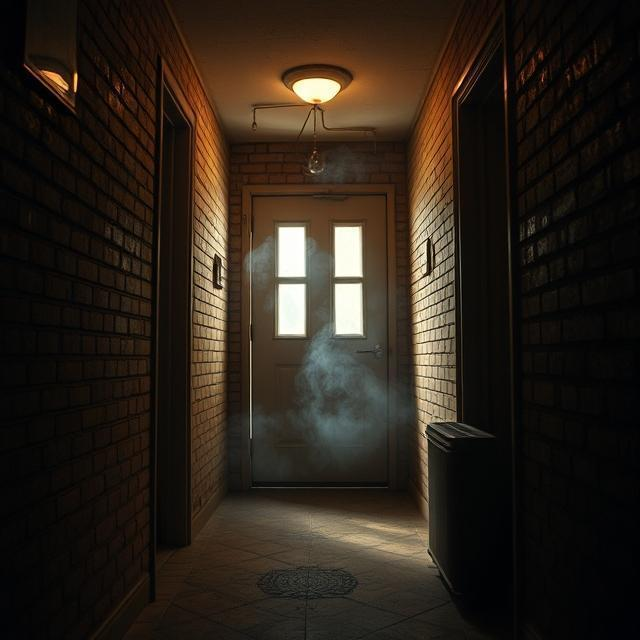fire: (227, 231, 405, 486), (309, 144, 367, 198)
